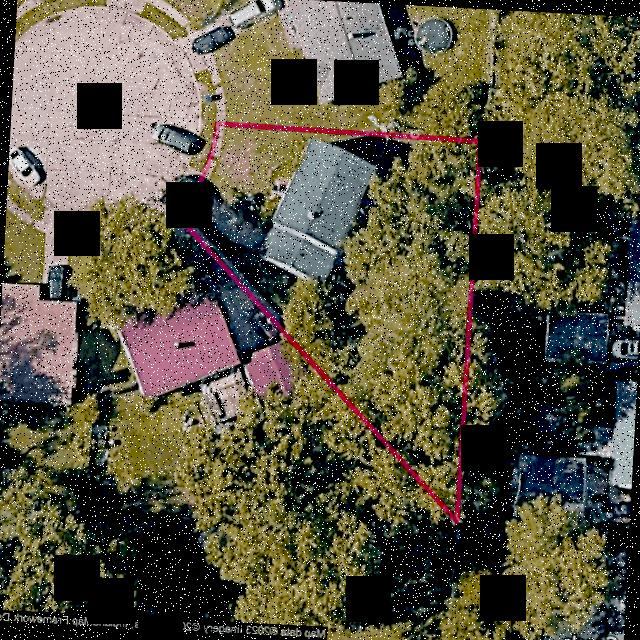Driveway: (184, 179, 268, 254)
Extra Driveway: (167, 164, 200, 202), (630, 95, 640, 204)
Extra Lawn: (187, 121, 214, 169), (159, 190, 179, 211)
House: (256, 134, 377, 288)
Other: (269, 176, 288, 198)
Sidewalk: (204, 125, 223, 177)
